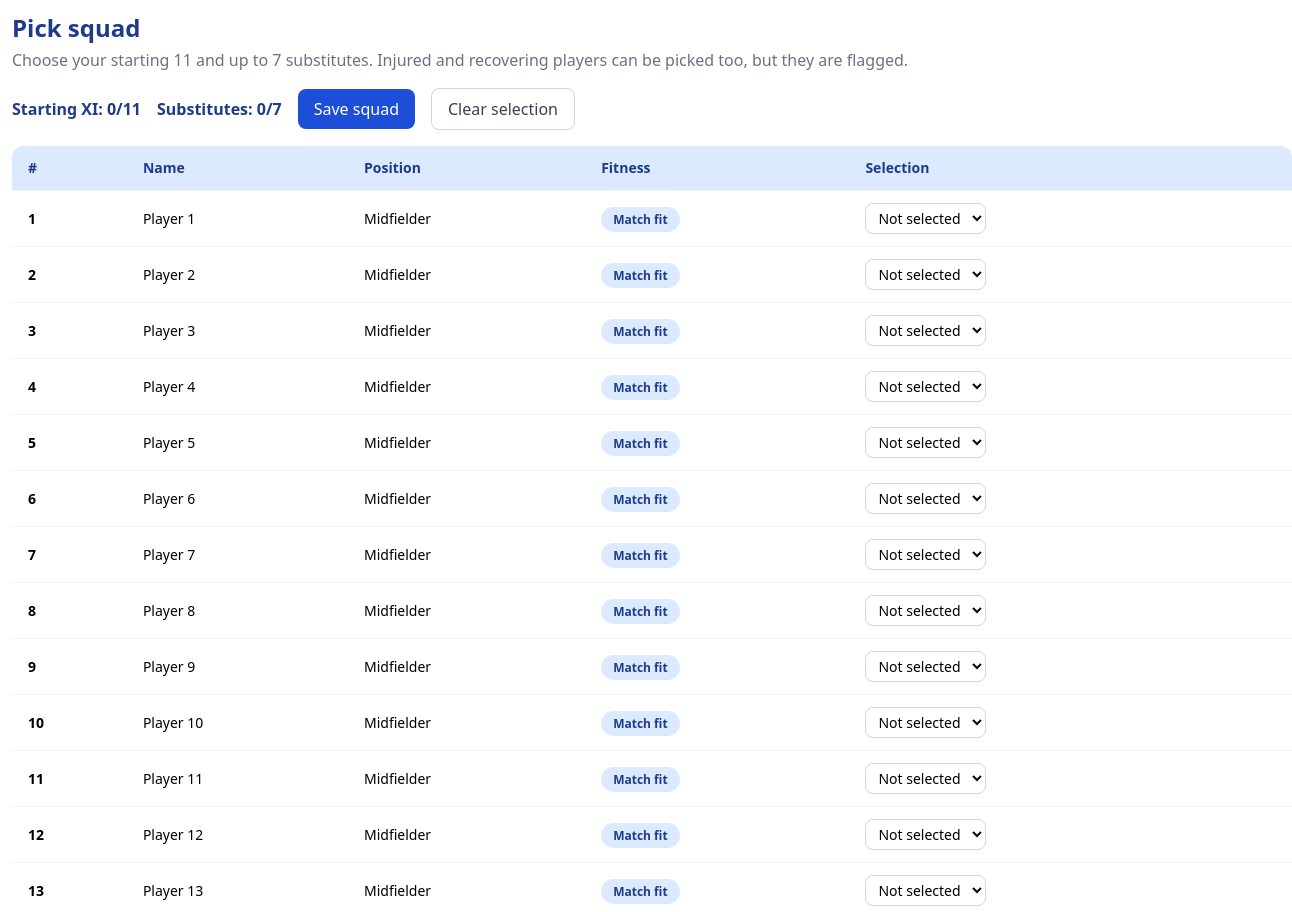
Scenario: clear selection empties the lineup
Check: the text "Player 1" is shown, box [127,190,348,246]
Select "Starting XI" in the dropdown named "Selection for Player 1" at [926, 218], box [865,203,986,234]
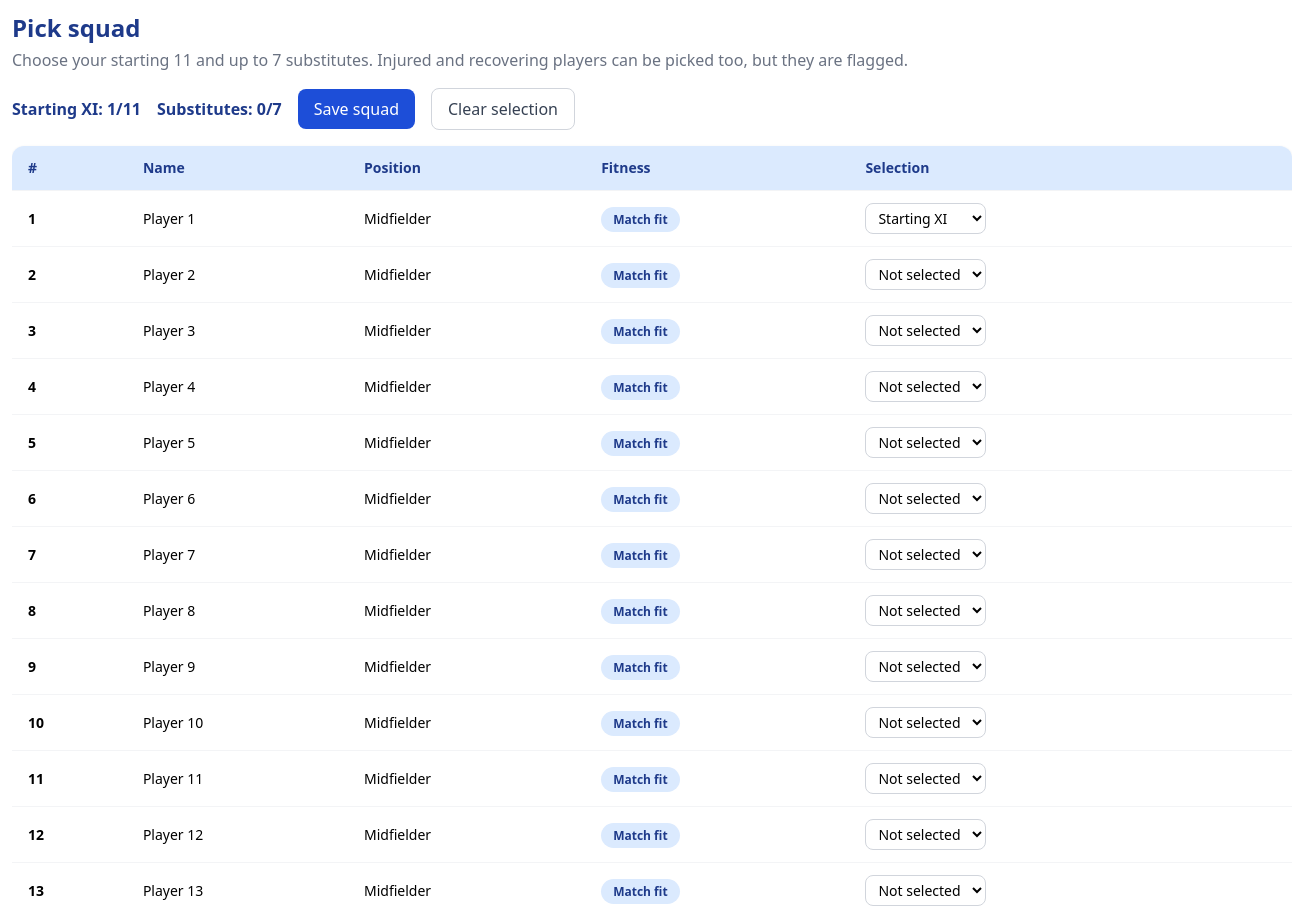
Click the button "Clear selection".
click(503, 109)  # box [431,88,575,130]
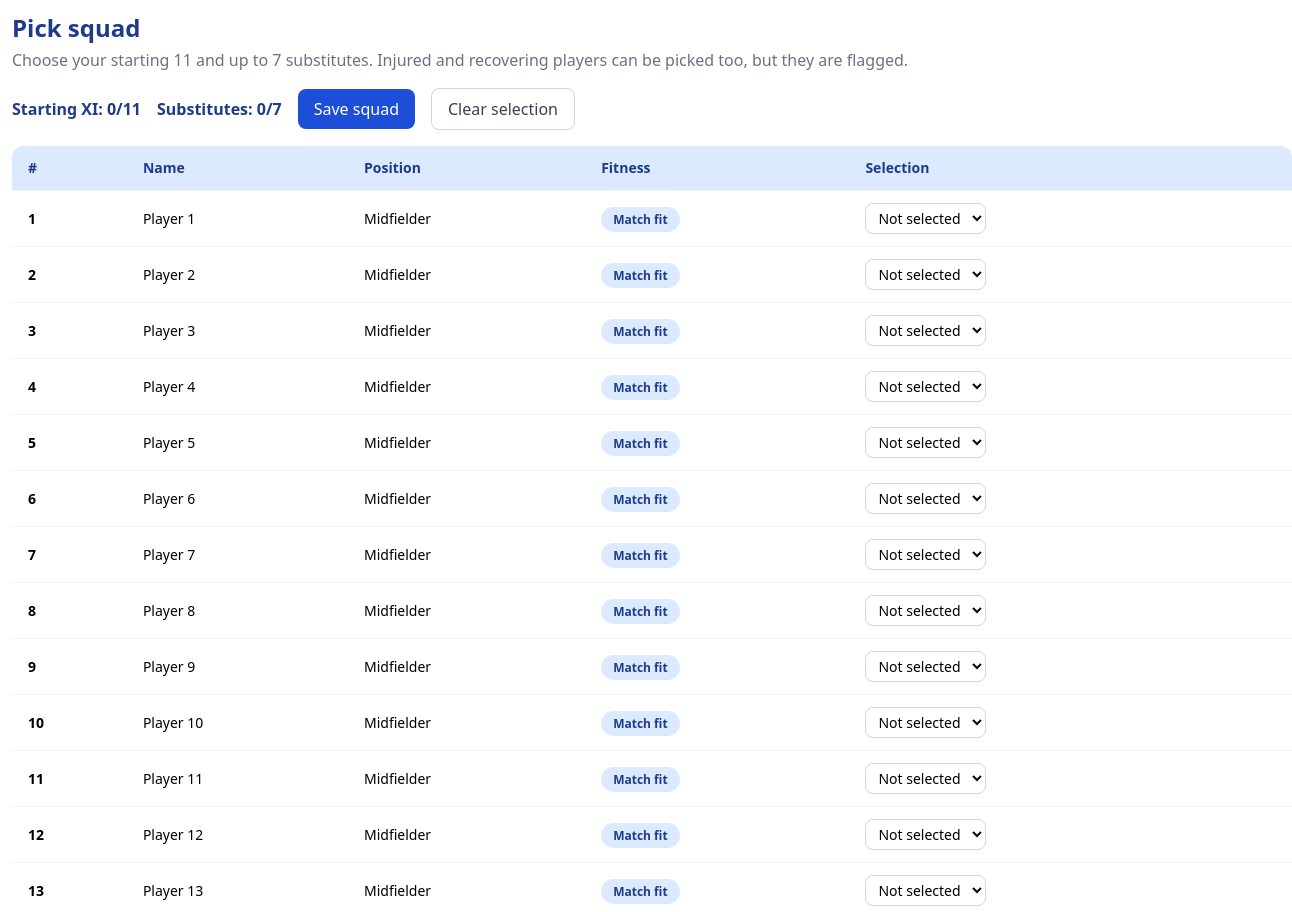
Check: the text "Starting XI: 0/11" is shown, box [12,97,141,121]
